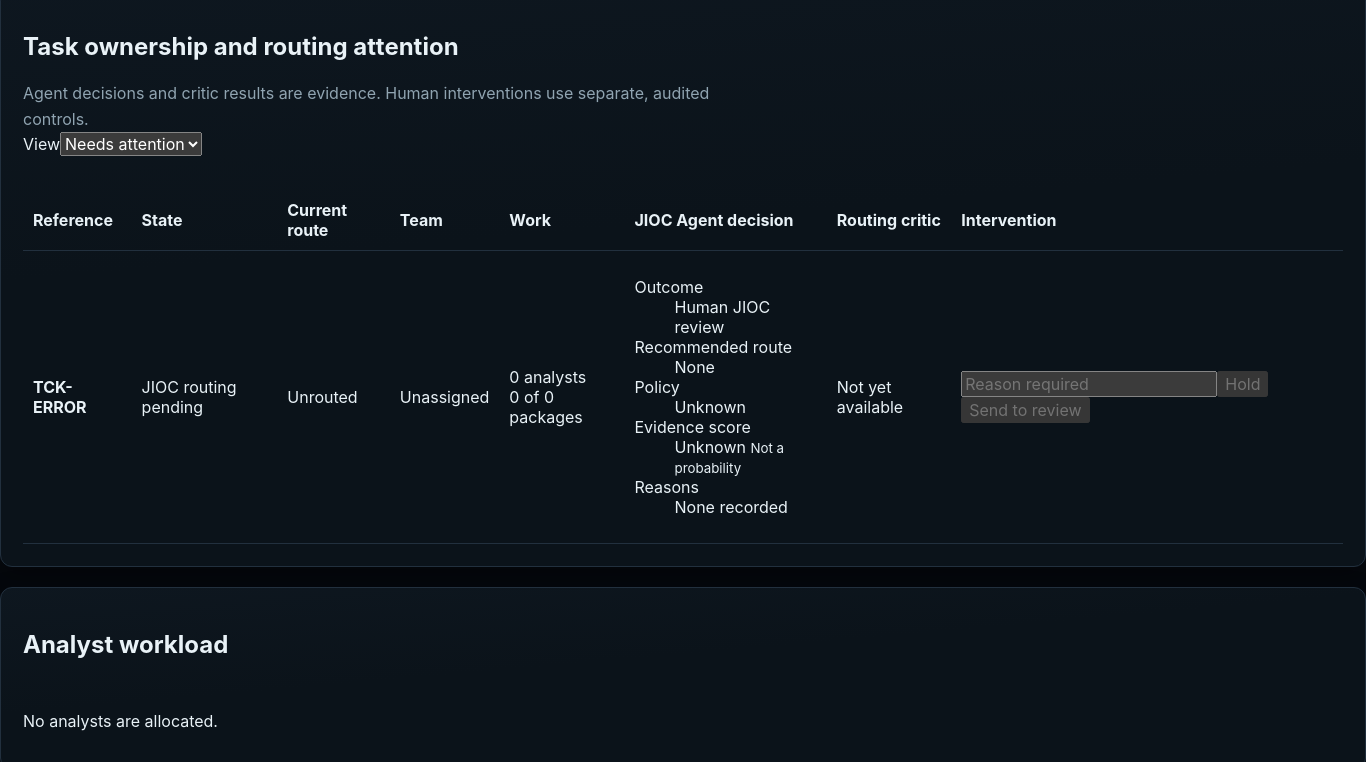
Test: shows missing Agent rationale and reports a rejected intervention
(page scrolled)
expect the text "None recorded" is shown: met, box left=674, top=497, right=788, bottom=517
expect the text "Unknown" is shown 2 times: met, box left=674, top=397, right=746, bottom=417; left=674, top=437, right=784, bottom=476
Type "Review changed work" into the field named "Intervention reason" at (1089, 384), box left=961, top=371, right=1217, bottom=397
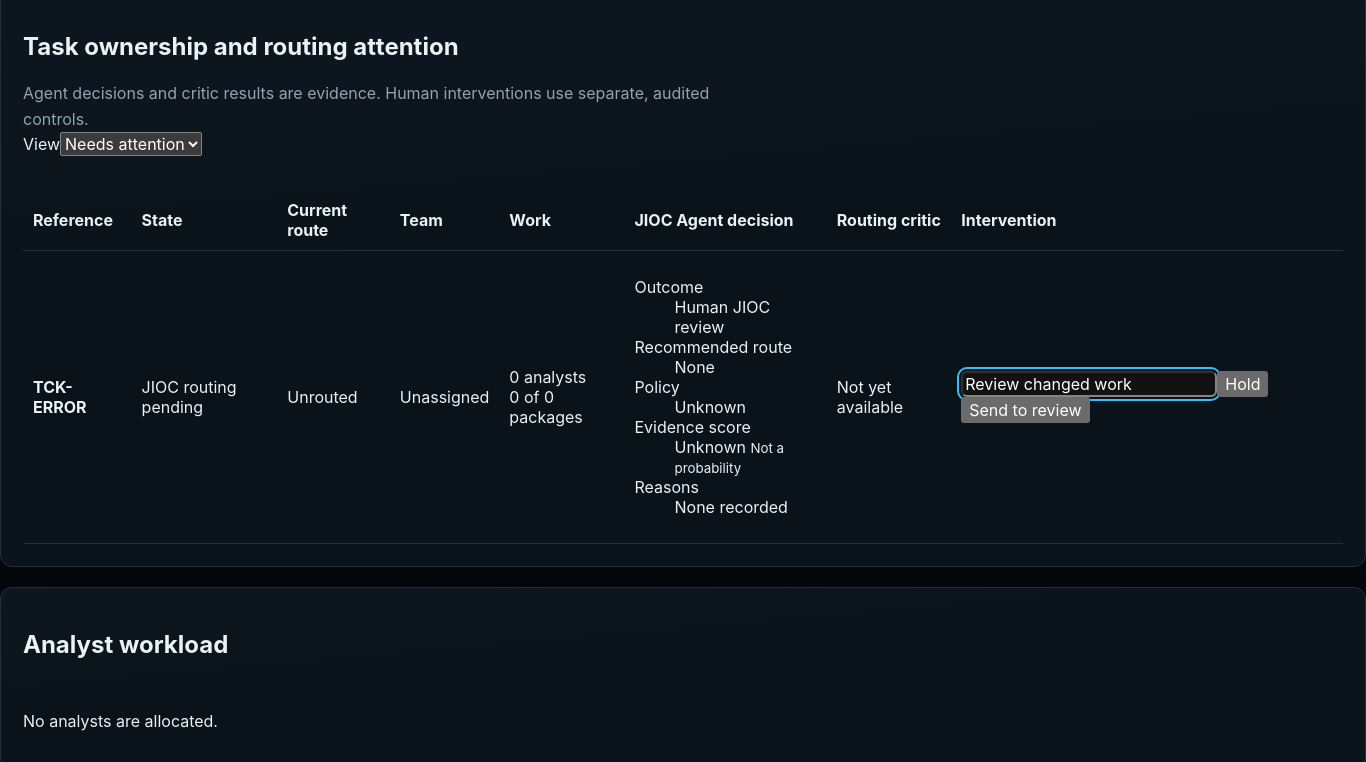
Click the button "Hold" at (1243, 384), box left=1217, top=371, right=1268, bottom=397
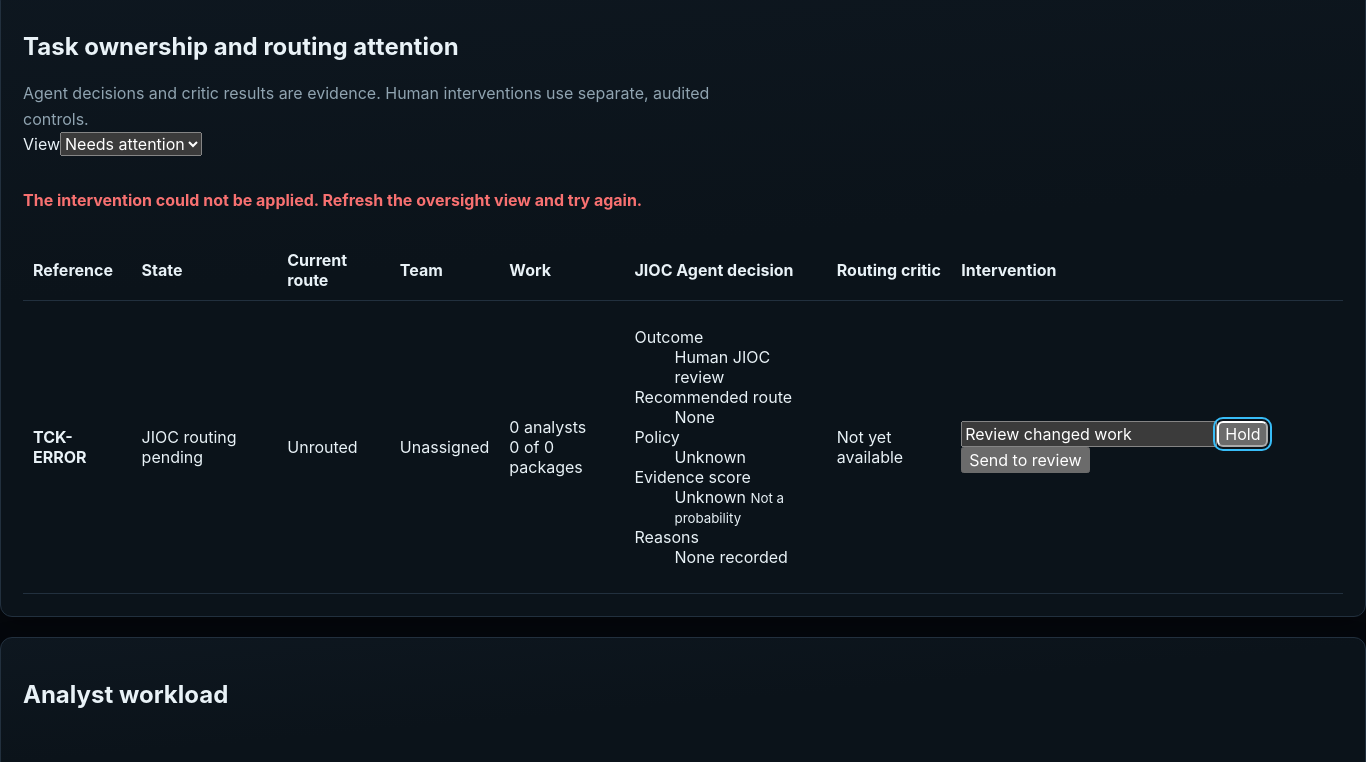
expect the message shows "The intervention could not be applied": met, box left=23, top=190, right=642, bottom=210
